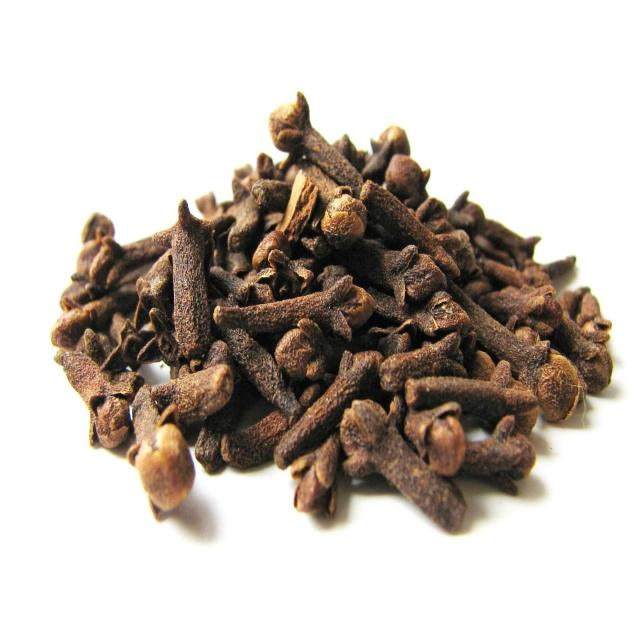clove: (51, 93, 612, 512)
